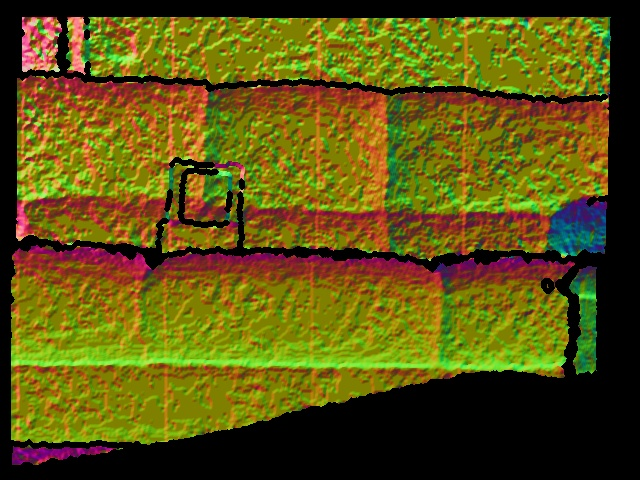station: (158, 159, 244, 252)
